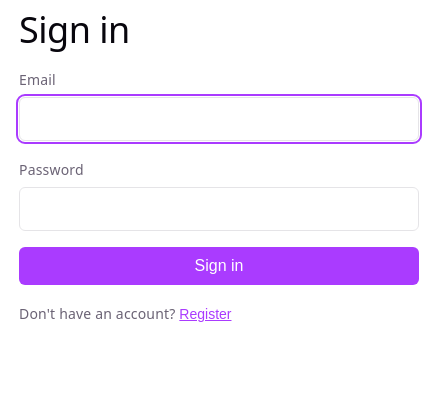
Test case: LoginPage › shows error on failed login
In the field labelled "Email": (219, 119) [19,97,419,141], type "test@test.com"
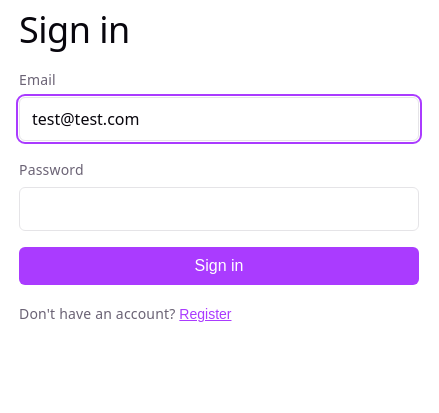
In the password field labelled "Password": (219, 209) [19,187,419,231], type "wrongpassword"
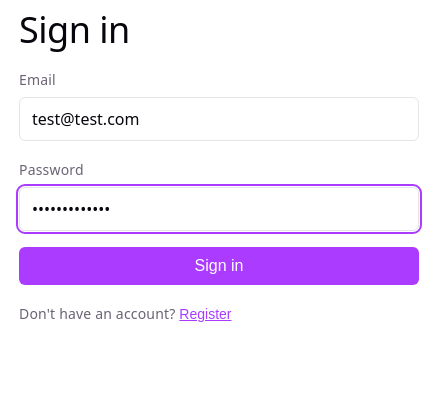
Click the button "Sign in": (219, 266) [19,247,419,285]
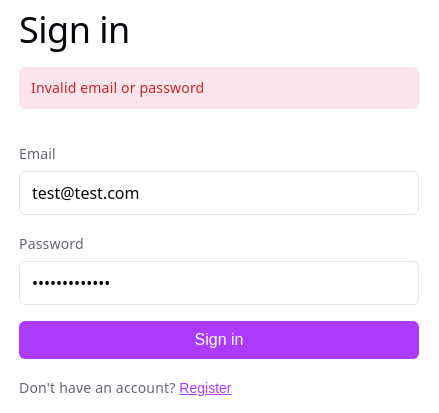
Result: the text "Invalid email or password" is shown at [19,67,419,109]
